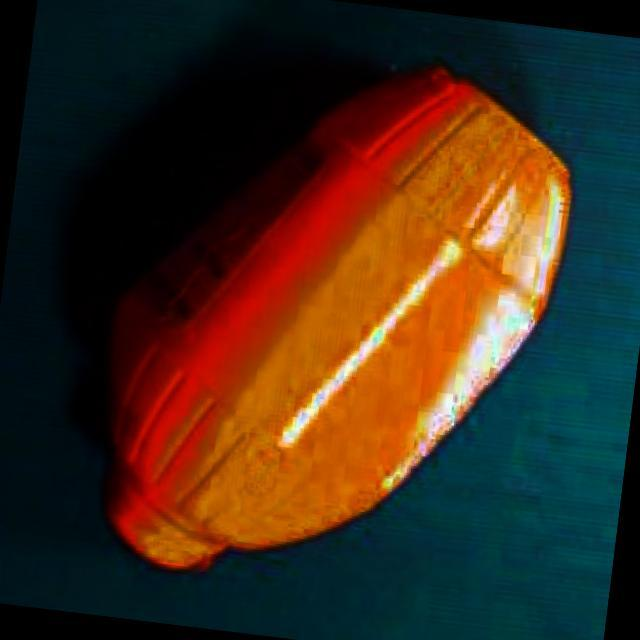HDPE Plastic: (96, 62, 576, 576)
